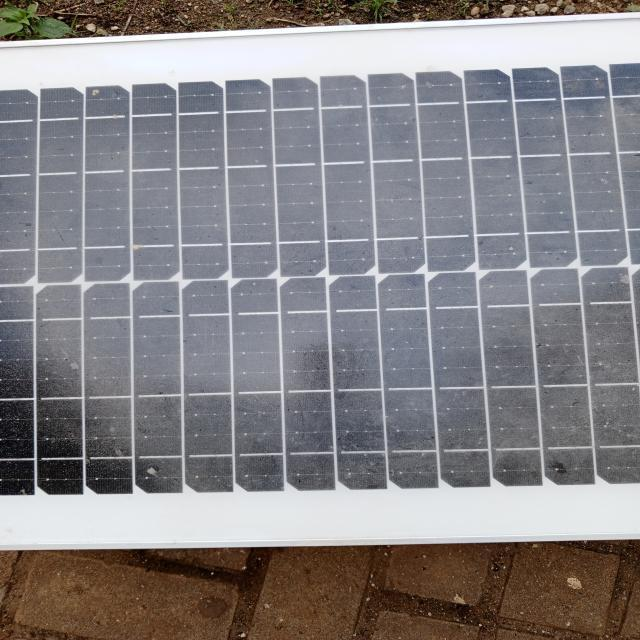Anomaly Solar Panel: (4, 56, 639, 510)
Surface Contaminant: (5, 66, 639, 509)
